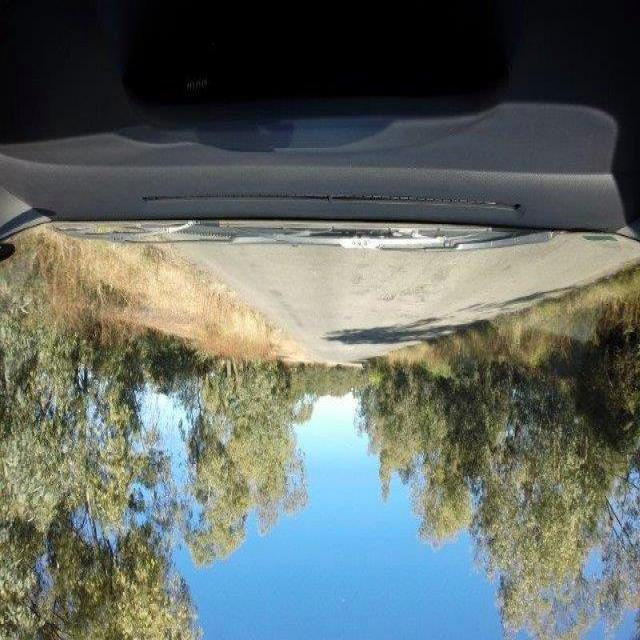lubang: (371, 276, 443, 314)
